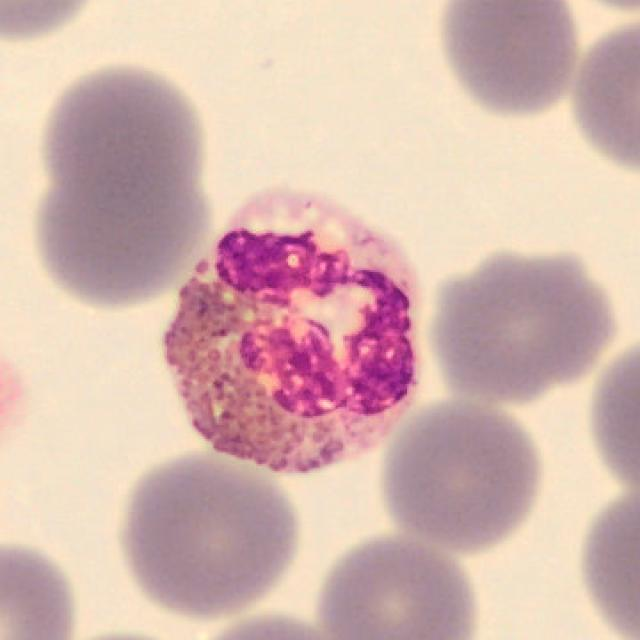Eosinofilo: (162, 187, 425, 475)
